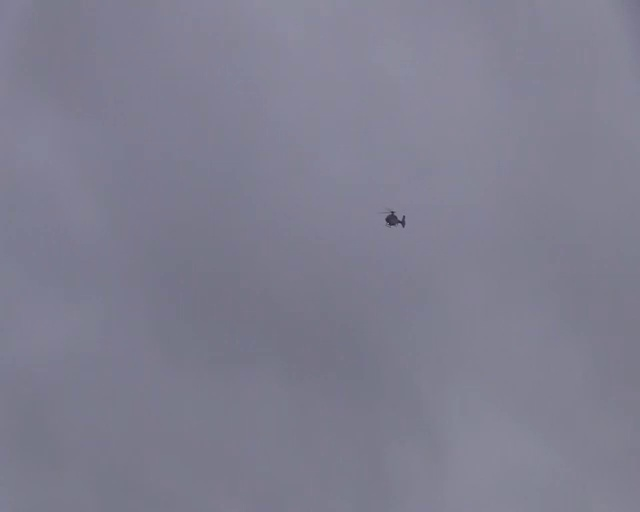HELICOPTER: (378, 208, 406, 228)
